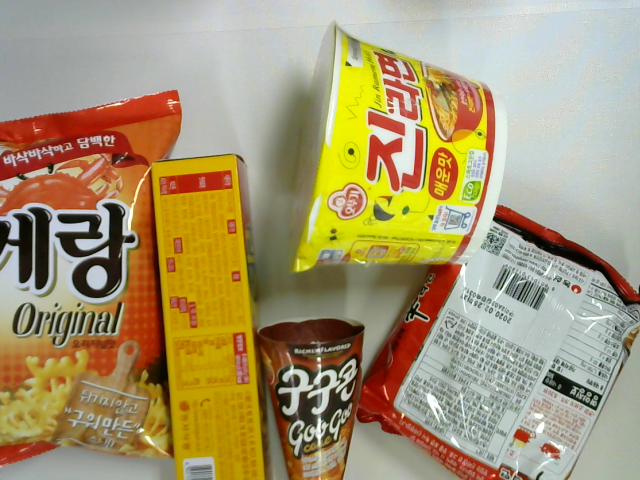Crabrang: (1, 89, 183, 467)
GooGoo_Cone_CVS: (258, 316, 363, 480)
Jinlamyeon_Hot_Taste_Large_Cup: (289, 18, 506, 276)
Ritz_Sand_Cracker: (150, 150, 272, 480)
Sinramen: (356, 204, 640, 480)
